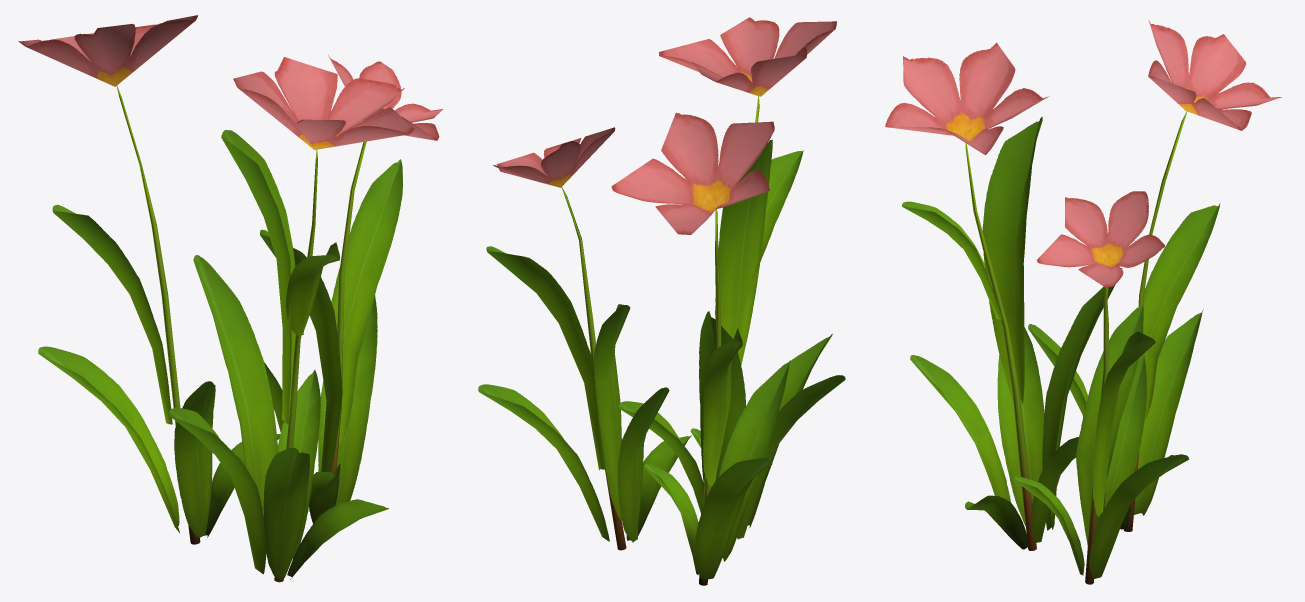
Rendered from Flower_3_Group.glb.
3 renders of one model, left to right at view 1: azimuth 30°, elevation 25°; view 2: azimuth 150°, elevation 25°; view 3: azimuth 270°, elevation 25°, orthographic. The views are drawn at different scales.
Visible parts, largest first — view 1: Flower_3_Group; view 2: Flower_3_Group; view 3: Flower_3_Group.
Boxes of the visible parts, x1=… form: Flower_3_Group: x1=18, y1=15, x2=442, y2=582; Flower_3_Group: x1=478, y1=17, x2=845, y2=585; Flower_3_Group: x1=885, y1=20, x2=1281, y2=584.
Size of the model in its own units: 1.49 by 2.05 by 1.59.
2 materials, 2 textured.
